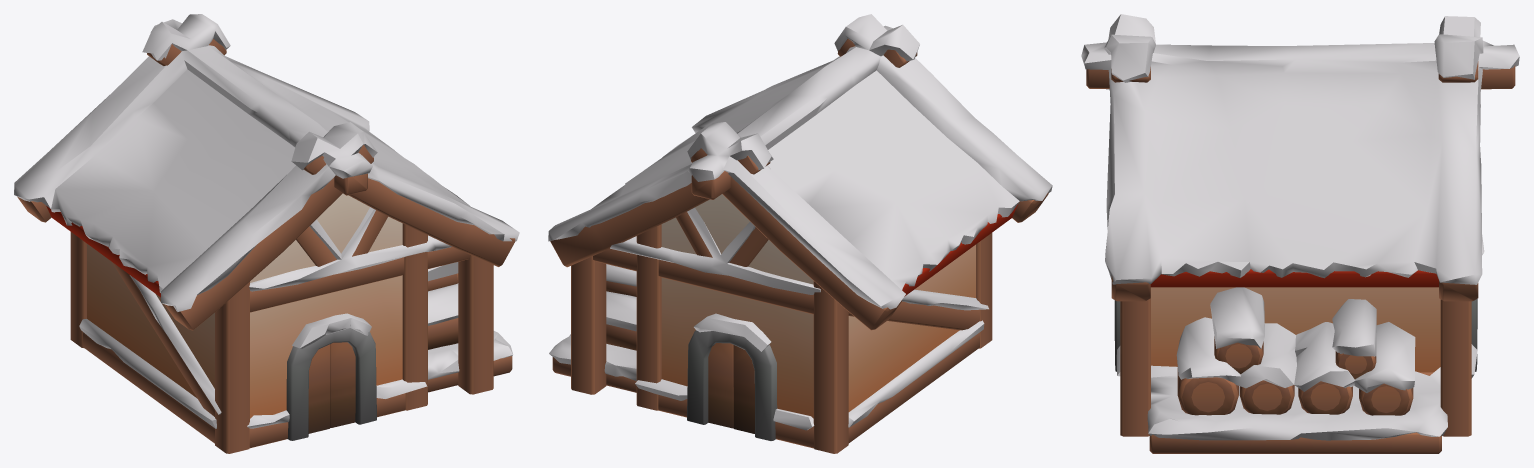
The model's file is WareHouseSnowy_1.fbx.
The picture shows the model from 3 angles, left to right: view 1: azimuth 30°, elevation 25°; view 2: azimuth 150°, elevation 25°; view 3: azimuth 270°, elevation 25°; orthographic projection. The views are drawn at different scales.
Parts seen in each view (by area): view 1: WareHouseSnowy_1; view 2: WareHouseSnowy_1; view 3: WareHouseSnowy_1.
Boxes of the visible parts, x1,y1,x2,y2 form: WareHouseSnowy_1: [14, 14, 519, 453]; WareHouseSnowy_1: [548, 14, 1052, 453]; WareHouseSnowy_1: [1081, 14, 1519, 453].
Size of the model in its own units: 373 by 291 by 352.
